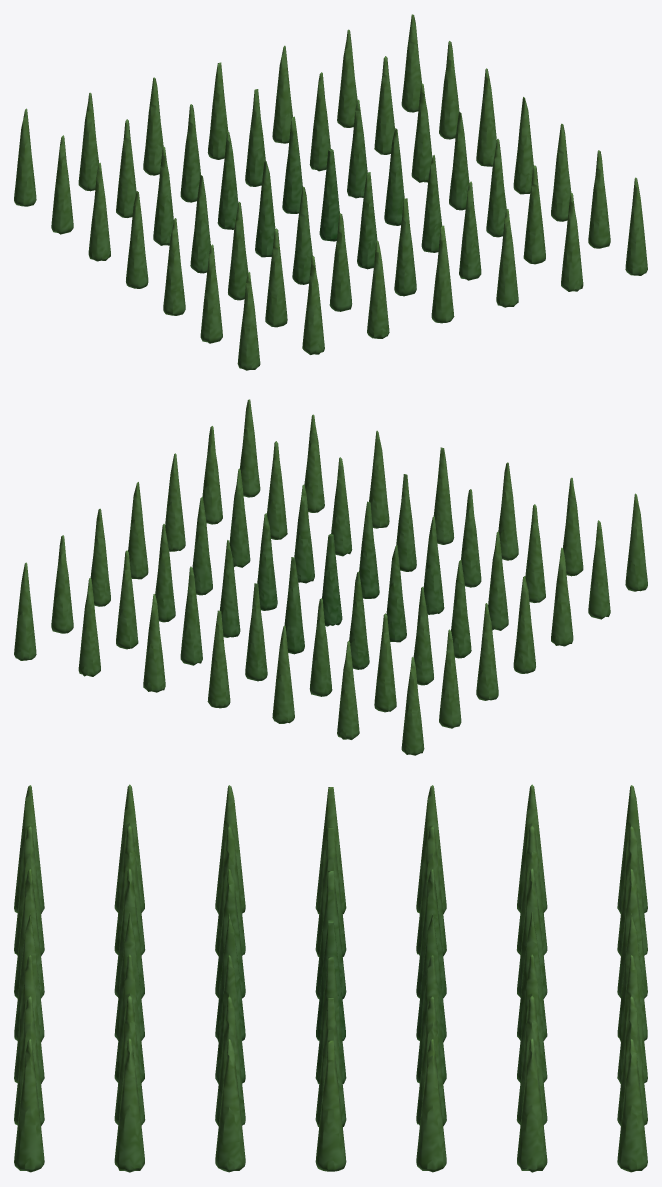
Rendered from grass_patch2.glb.
The picture shows the model from 3 angles, top to bottom: view 1: azimuth 30°, elevation 25°; view 2: azimuth 150°, elevation 25°; view 3: azimuth 270°, elevation 25°; orthographic projection. The views are drawn at different scales.
Parts seen in each view (by area): view 1: grass_patch2; view 2: grass_patch2; view 3: grass_patch2.
Boxes of the visible parts, x1,y1,x2,y2 form: grass_patch2: (14,14,647,370); grass_patch2: (14,399,647,755); grass_patch2: (14,784,647,1172).
Size of the model in its own units: 2.27 by 0.5092 by 2.27.
